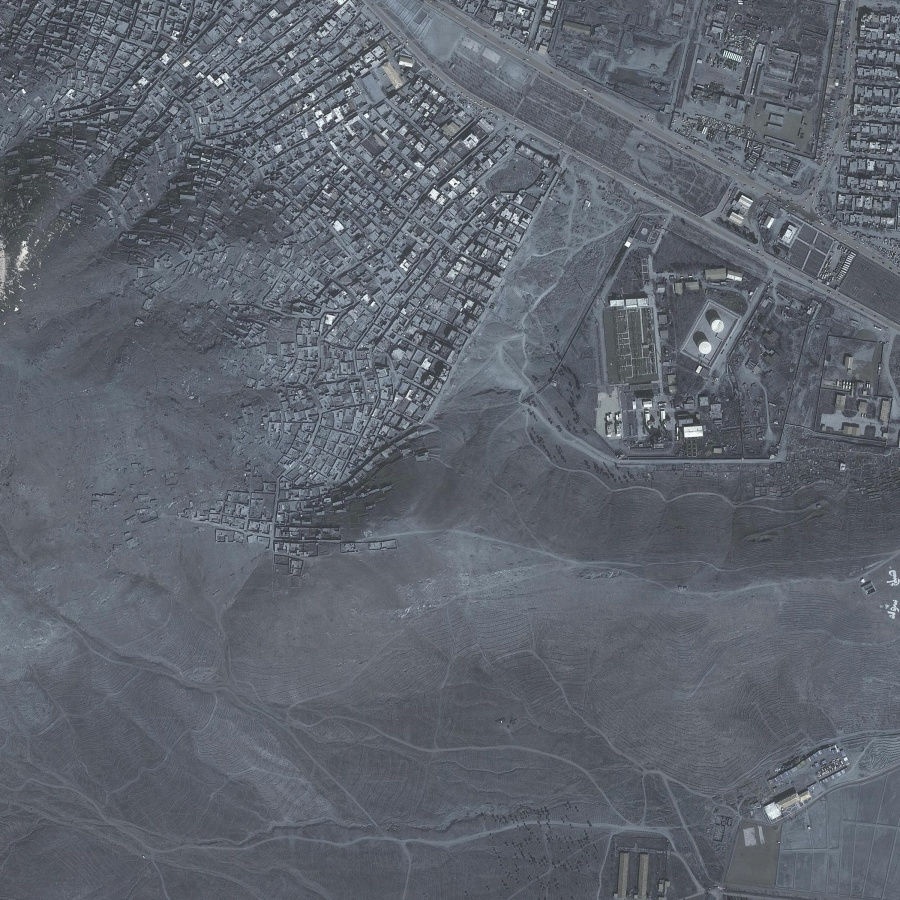PowerPlant: (605, 261, 748, 452)
